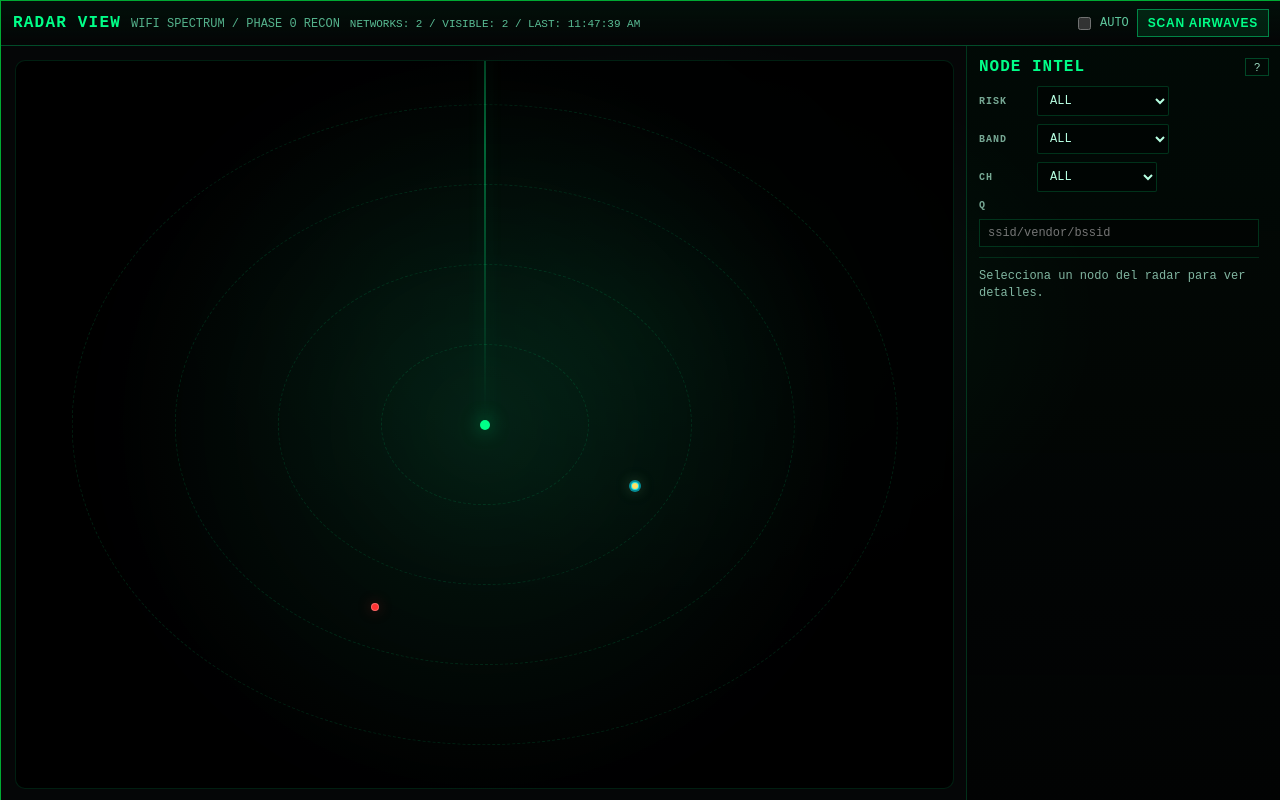
Scenario: RadarPanel › debe filtrar por canal
Select "CH 6" in the dropdown named "FILTER_CH_SELECT": point(1097, 177) [1037, 162, 1157, 192]
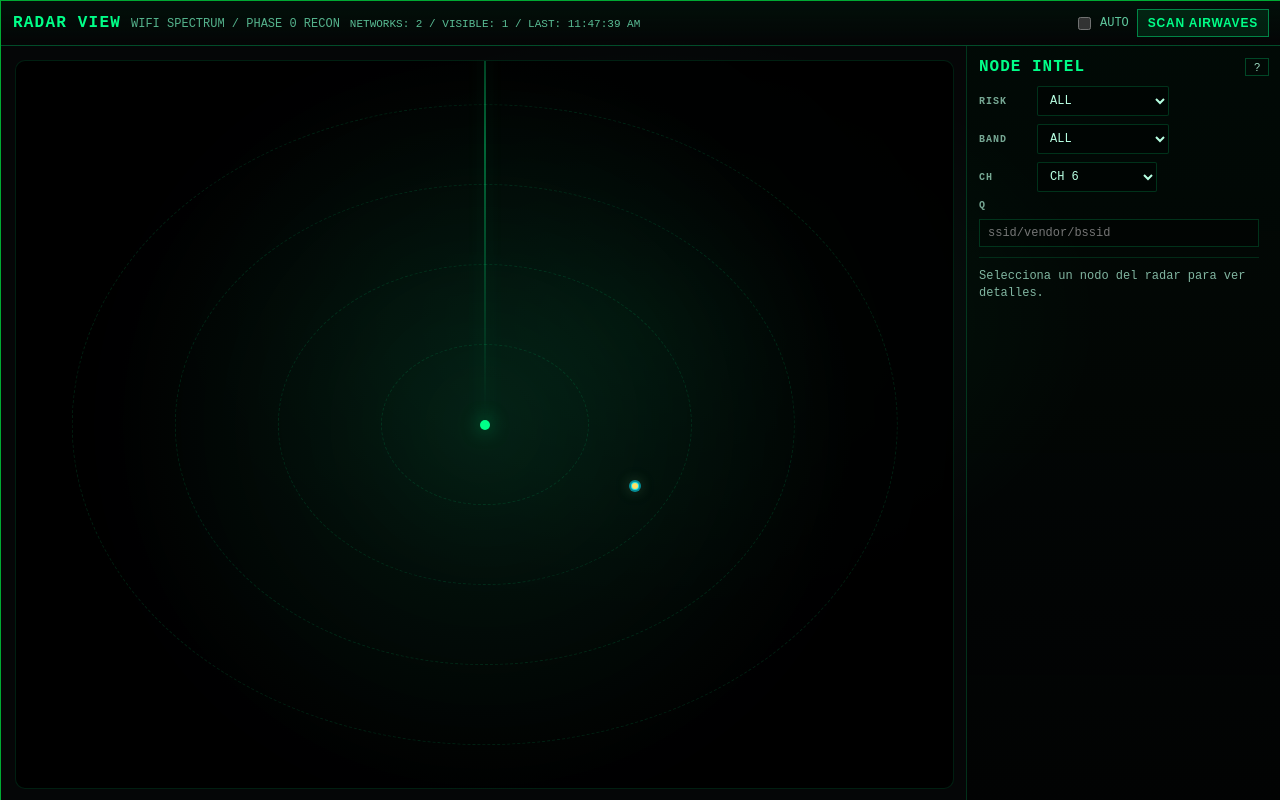
Now the text "NETWORKS: 2 / VISIBLE: 1 / LAST: 11:47:39 AM" is shown, box [350, 18, 640, 30]
